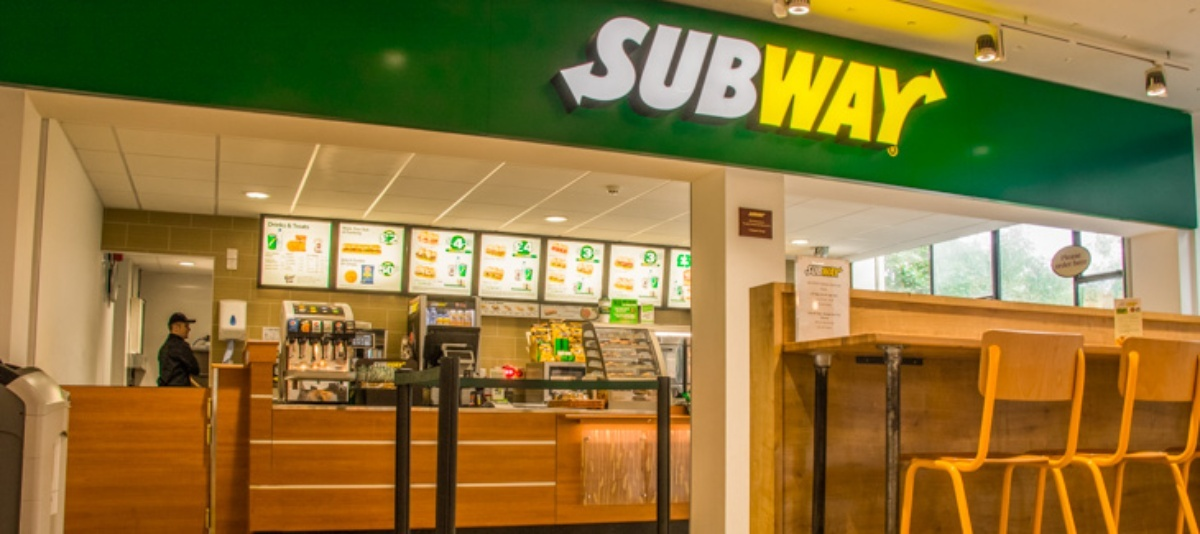text: (577, 5, 592, 150), (593, 5, 608, 150), (609, 5, 624, 150), (625, 5, 640, 150), (641, 5, 656, 150), (657, 5, 672, 150), (673, 5, 688, 150), (689, 5, 704, 150), (705, 5, 720, 150), (721, 5, 736, 150), (737, 5, 752, 150), (753, 5, 768, 150), (769, 5, 784, 150), (785, 5, 800, 150), (801, 5, 816, 150), (817, 5, 832, 150), (833, 5, 848, 150), (849, 5, 864, 150), (865, 5, 880, 150), (881, 5, 896, 150), (897, 5, 912, 150), (913, 5, 928, 150), (929, 5, 944, 150), (945, 5, 954, 150), (574, 5, 576, 150), (1073, 250, 1089, 265), (817, 263, 832, 278), (1057, 250, 1072, 265), (804, 263, 816, 278), (454, 237, 464, 252), (817, 290, 832, 300), (753, 217, 768, 227), (385, 232, 397, 244), (647, 250, 656, 265), (833, 263, 842, 278), (582, 247, 592, 260), (339, 258, 352, 268), (273, 221, 288, 229), (289, 221, 304, 229), (353, 258, 365, 268), (817, 280, 832, 288), (740, 217, 752, 227), (817, 311, 832, 318), (273, 252, 282, 262), (1057, 262, 1072, 268), (1073, 262, 1087, 268), (264, 252, 272, 262), (833, 290, 841, 300), (817, 321, 832, 326), (833, 280, 842, 288), (809, 290, 816, 300), (806, 311, 816, 318), (262, 265, 272, 272), (282, 254, 288, 265), (289, 254, 295, 265), (808, 280, 816, 288), (833, 311, 842, 318), (273, 265, 282, 272), (529, 240, 533, 254), (525, 240, 528, 254), (267, 221, 272, 229), (305, 221, 310, 229), (769, 217, 773, 227), (1054, 250, 1056, 265), (465, 237, 466, 252), (833, 321, 836, 326), (593, 247, 594, 260), (1054, 262, 1056, 268), (814, 321, 816, 326)
